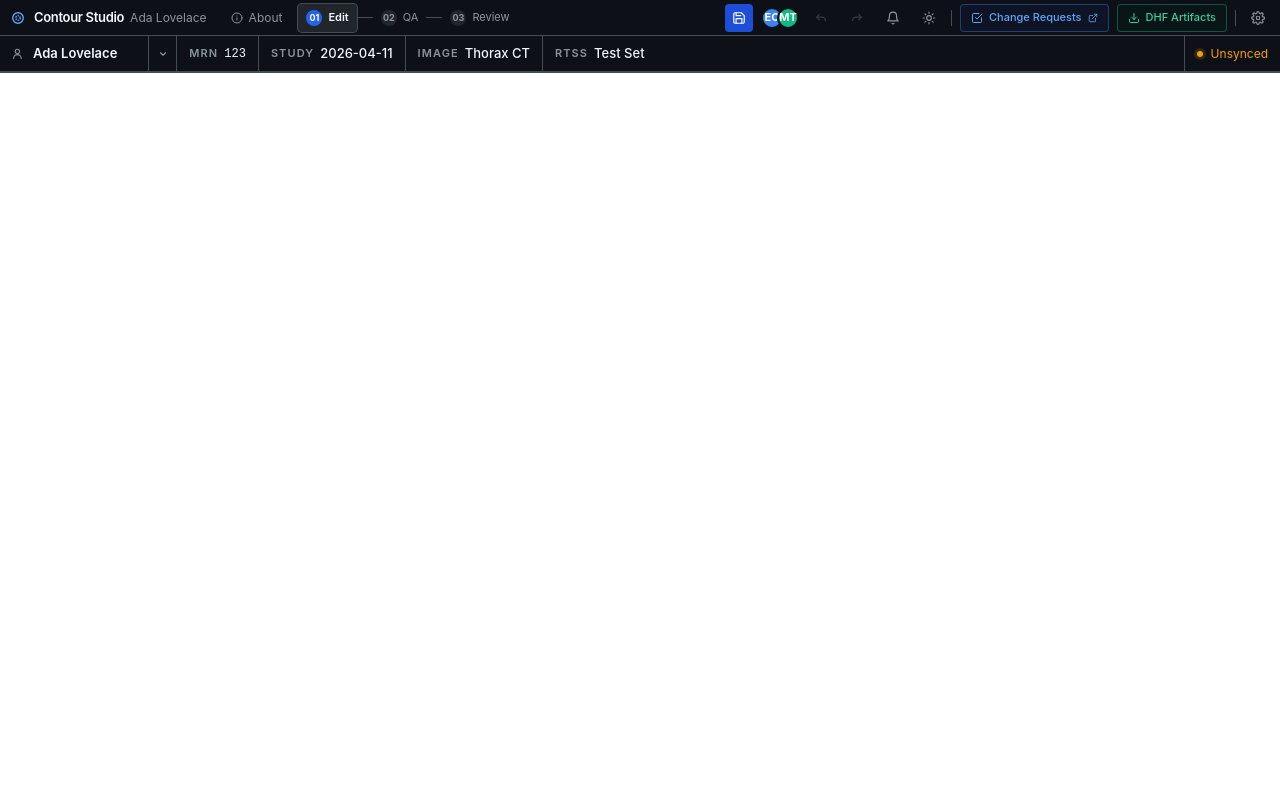
it: Toolbar push to repository @links:SRS-010 › sends nothing when the push is cancelled, and the changes stay unsaved @testing:T16
Click the button named "Save changes" at {"x": 739, "y": 18}, box left=725, top=4, right=753, bottom=32
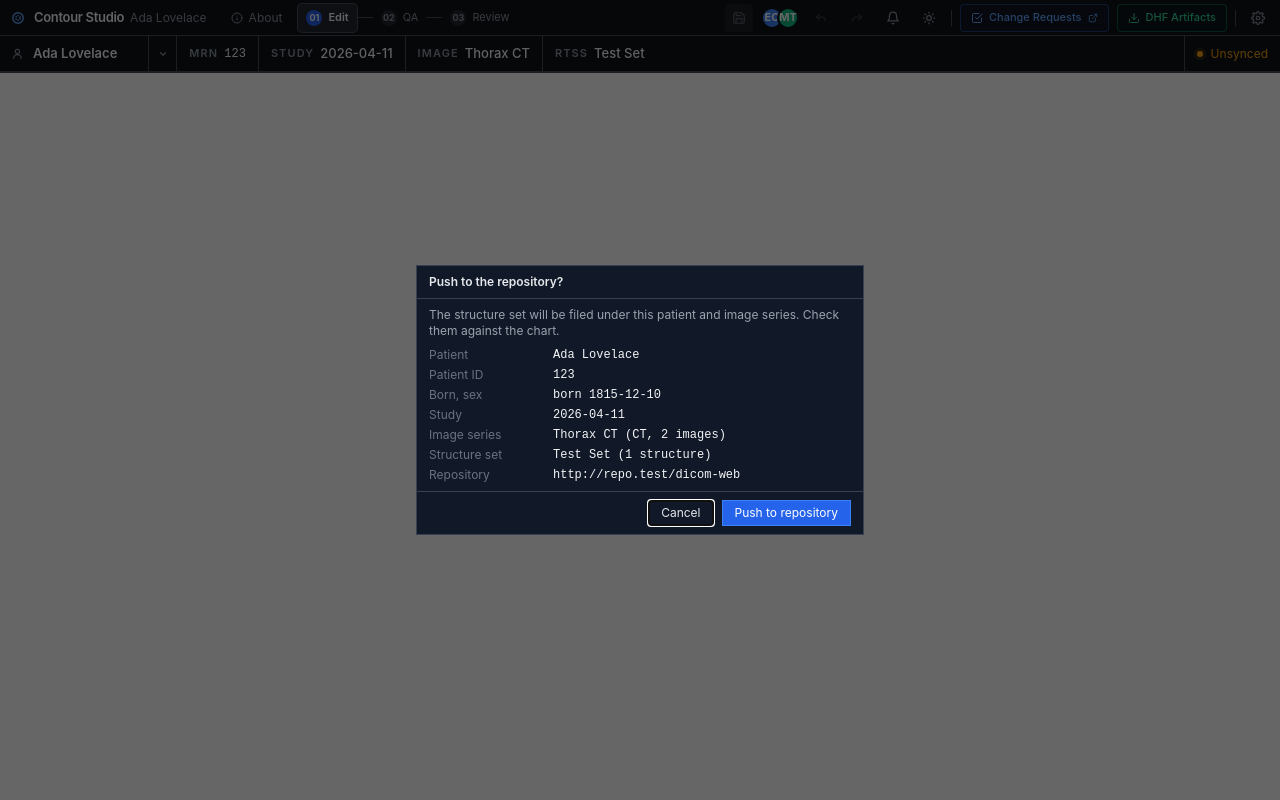
Click the button "Cancel" at {"x": 681, "y": 513}, box left=648, top=500, right=714, bottom=526
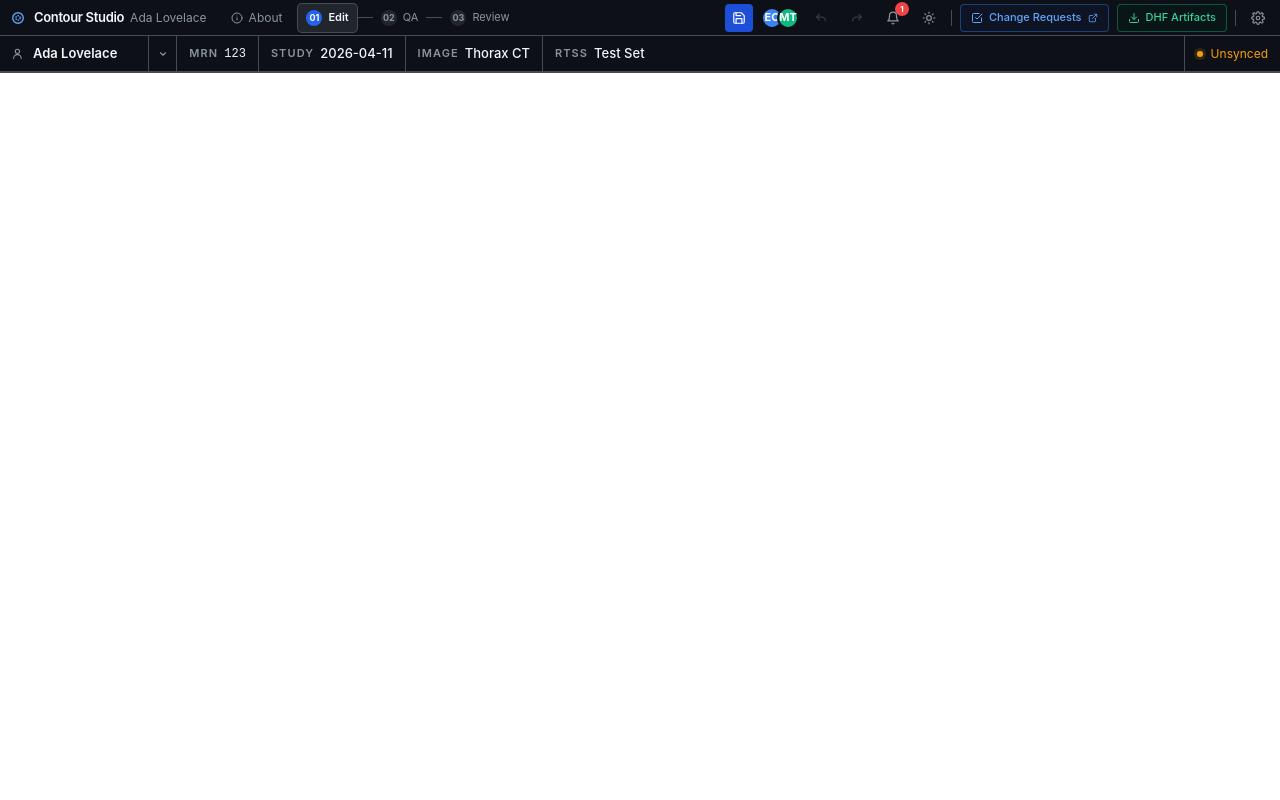
Expected: the dialog is gone
